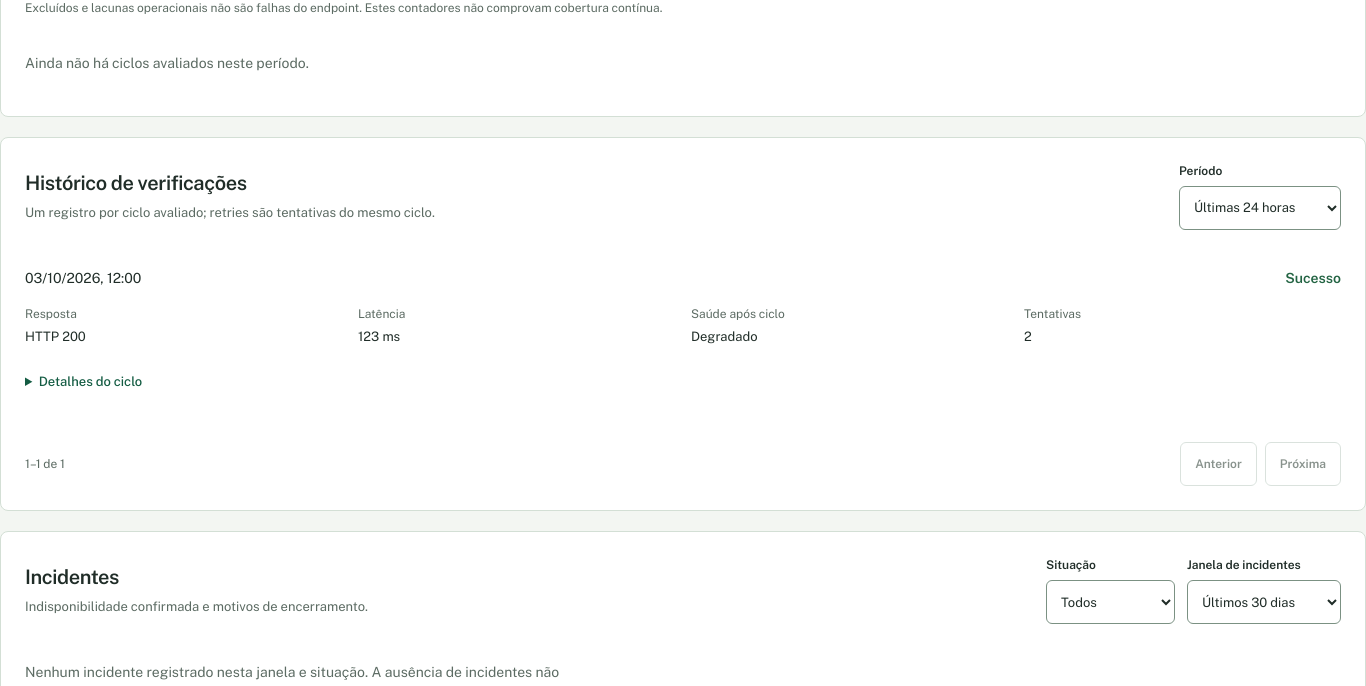
Test: métricas e observações › detalha resultado e tentativas de um único ciclo
(page scrolled)
Expected: the text "Sucesso" is shown, [1285,268,1341,289]
Step 1. Click the heading "Detalhes do ciclo" → {"x": 90, "y": 382}, box [39,374,142,389]
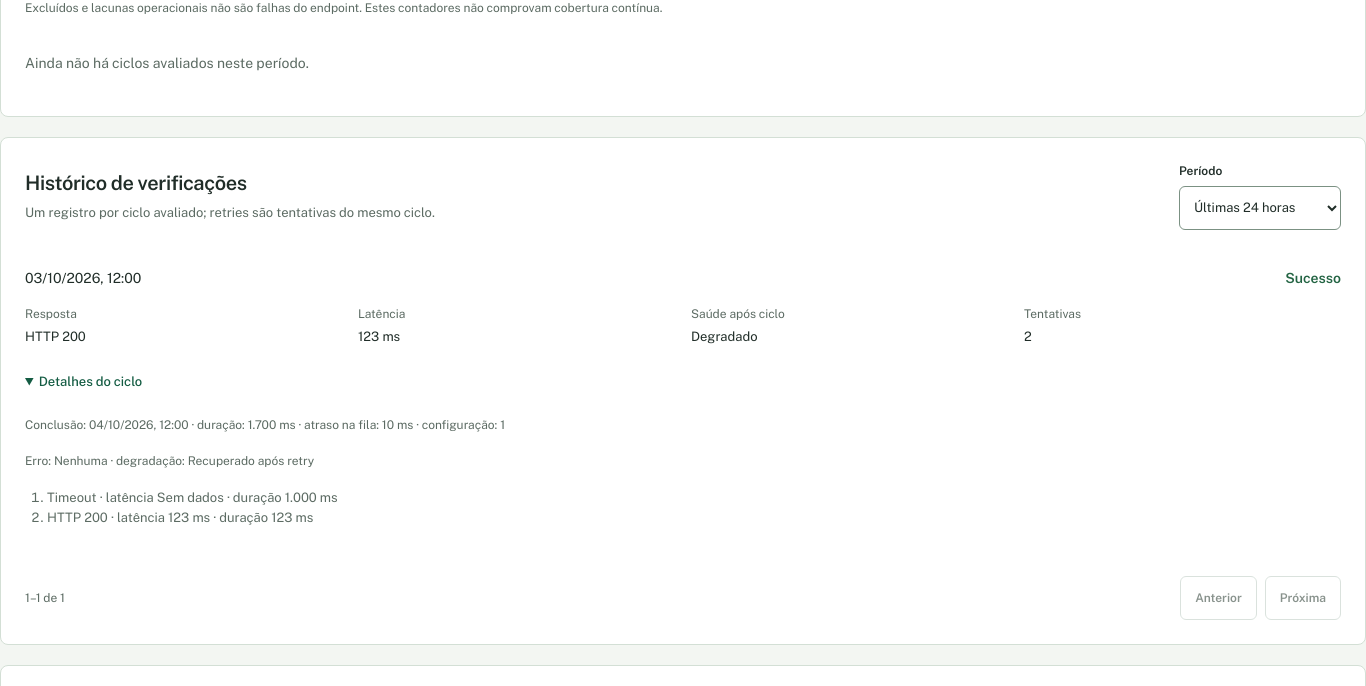
Result: the text "Erro: Nenhuma · degradação: Recuperado após retry" is shown at [25,454,314,468]
Result: the number of list items is 2 at [47,490,338,505]; [47,510,313,525]
